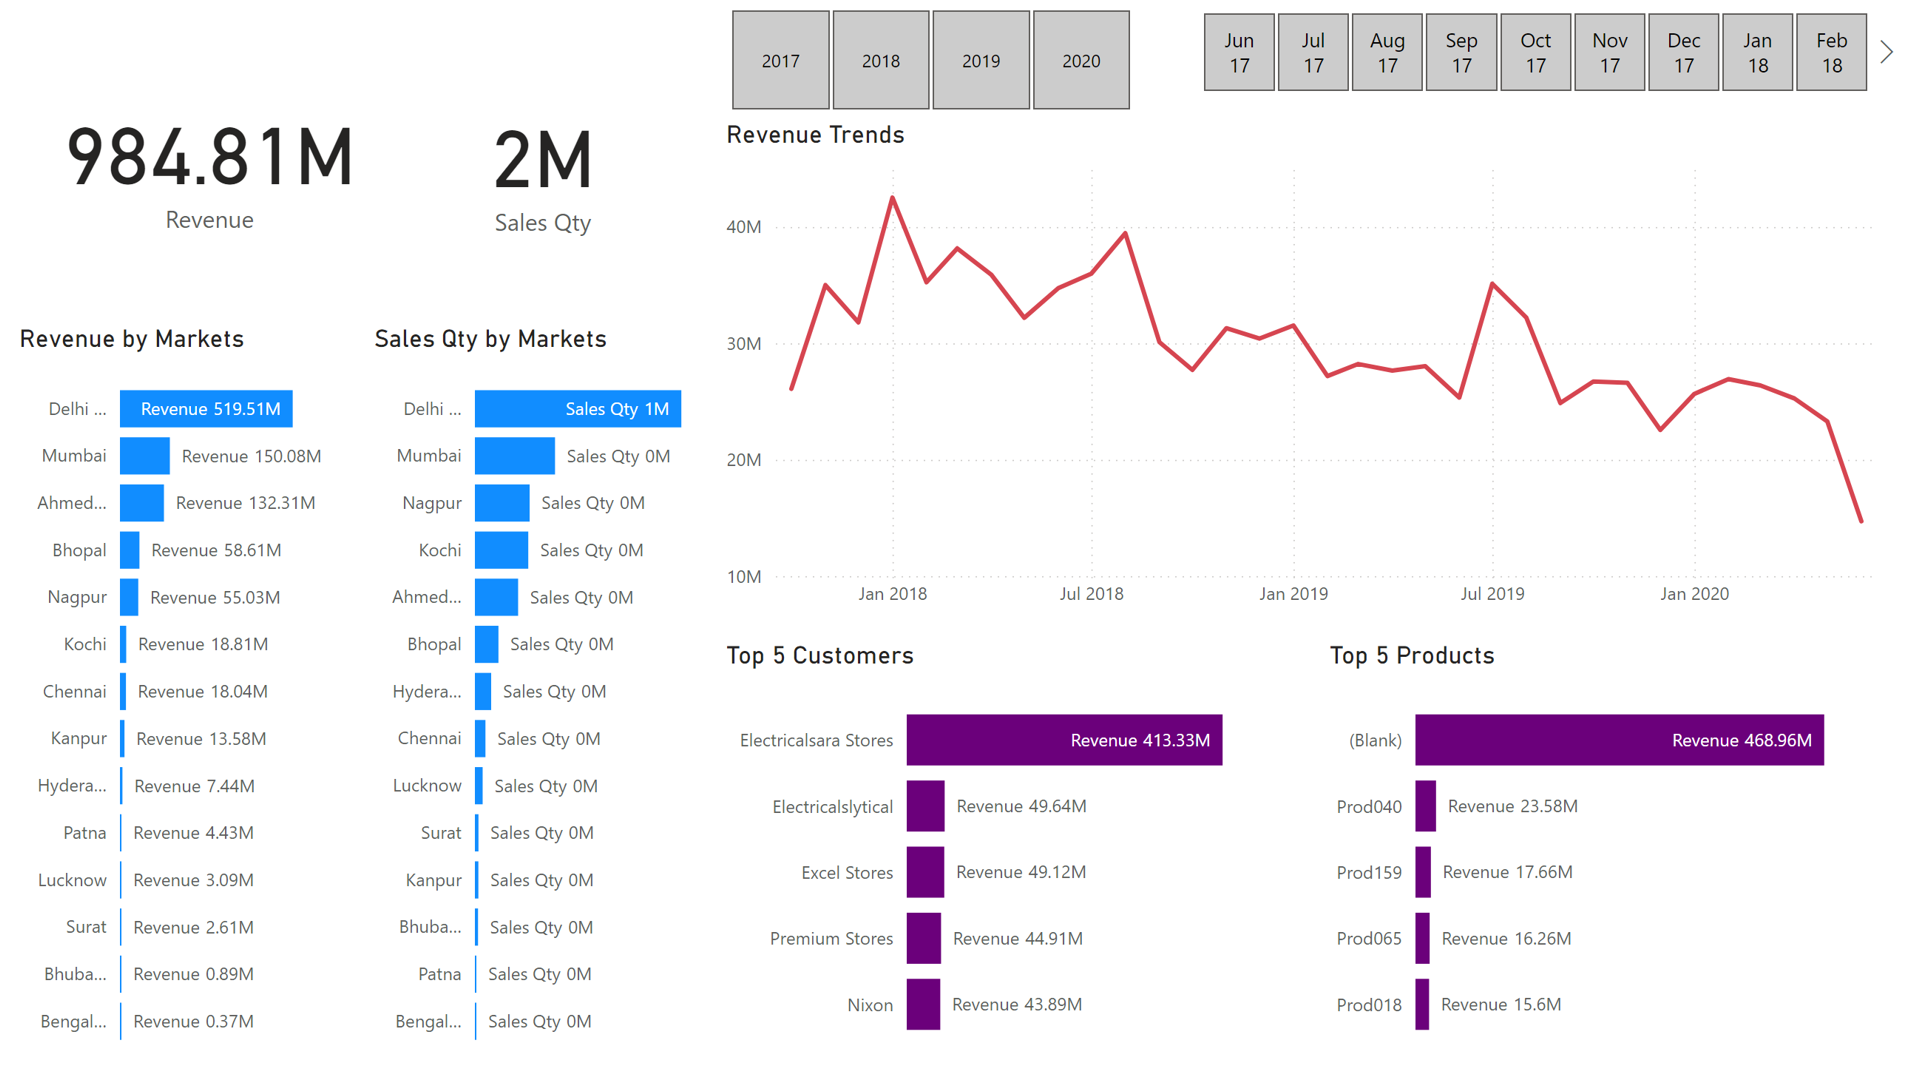

The page's visual inventory and layout, read from the dashboard file:
{"tool":"powerbi","page":{"name":"Page 1","canvas":[1280,720],"ordinal":0},"visuals":[{"type":"card","fields":{"Values":["BaseMeasures.Revenue"]},"box":[0,0,267.2,218.6],"z":0},{"type":"card","fields":{"Values":["BaseMeasures.Sales Qty"]},"box":[239.6,1.6,238,218.6],"z":1000},{"type":"barChart","title":"Revenue by Markets","fields":{"Y":["BaseMeasures.Revenue"],"Category":["sales markets.markets_name"]},"box":[0,218.6,239.6,502],"z":2000},{"type":"barChart","title":"Sales Qty by Markets","fields":{"Y":["BaseMeasures.Sales Qty"],"Category":["sales markets.markets_name"]},"box":[239.6,218.6,239.6,502],"z":3000},{"type":"slicer","fields":{"Values":["sales date.year"]},"box":[461.5,0,319,81],"z":4000},{"type":"slicer","fields":{"Values":["sales date.cy_date"]},"box":[780.5,1.6,498.7,66.4],"z":5000},{"type":"barChart","title":"Top 5 Customers","fields":{"Y":["BaseMeasures.Revenue"],"Category":["sales customers.custmer_name"]},"box":[478.1,432.8,406.3,287.2],"z":6000},{"type":"barChart","title":"Top 5 Products","fields":{"Y":["BaseMeasures.Revenue"],"Category":["sales products.product_code"]},"box":[886.3,432.8,393.1,287.2],"z":7000},{"type":"lineChart","title":"Revenue Trends","fields":{"Y":["BaseMeasures.Revenue"],"Category":["sales date.cy_date"]},"box":[477.7,81,801.5,338.4],"z":8000}]}

Visuals, with their boxes in screenshot pixels (x1, y1, x2, y2), scaled from the page's 1280x720 canvas onto the 1920x1080 screenshot:
card - BaseMeasures.Revenue: box(0, 0, 401, 328)
card - BaseMeasures.Sales Qty: box(359, 2, 716, 330)
"Revenue by Markets" barChart: box(0, 328, 359, 1079)
"Sales Qty by Markets" barChart: box(359, 328, 719, 1079)
slicer - sales date.year: box(692, 0, 1171, 122)
slicer - sales date.cy_date: box(1171, 2, 1919, 102)
"Top 5 Customers" barChart: box(717, 649, 1327, 1079)
"Top 5 Products" barChart: box(1329, 649, 1919, 1079)
"Revenue Trends" lineChart: box(717, 122, 1919, 629)
